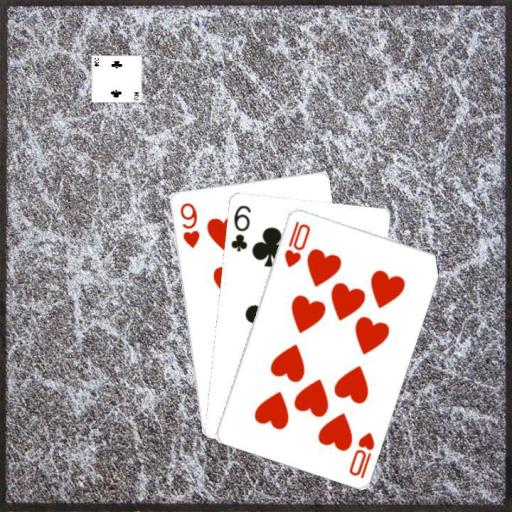10H: (281, 218, 311, 269), (346, 428, 376, 479)
6C: (227, 202, 252, 253)
9H: (177, 199, 201, 250)
